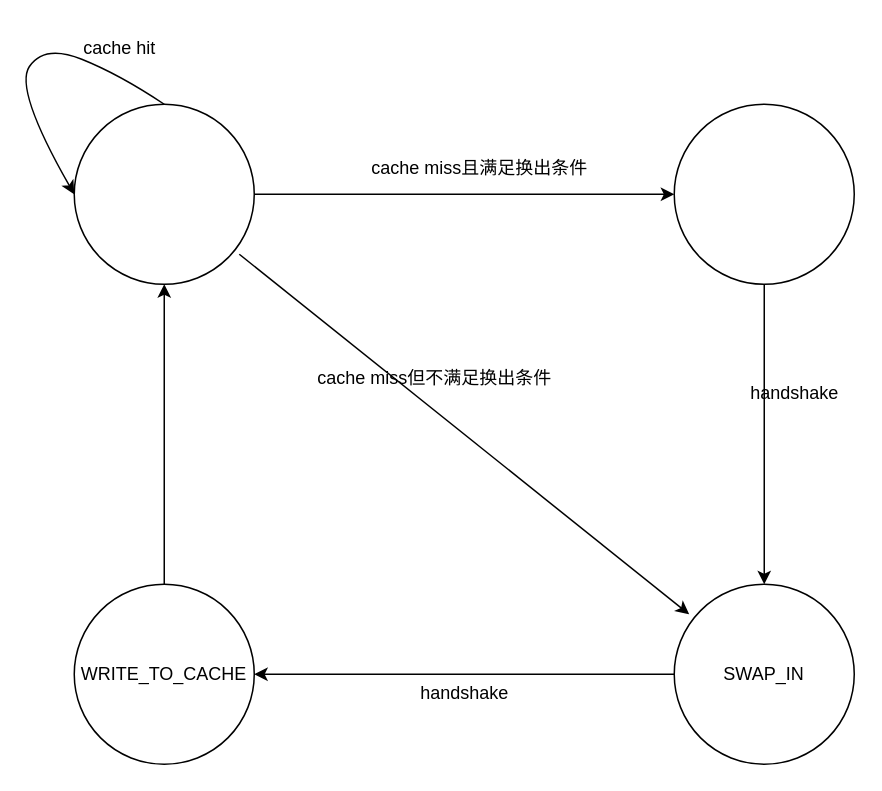
This 882x791 diagram has some shape labels left out. The centre of each missing label's shape, as x and y in pixels:
"IDLE" goes at point 163,193.
"SWAP_OUT" goes at point 763,193.
